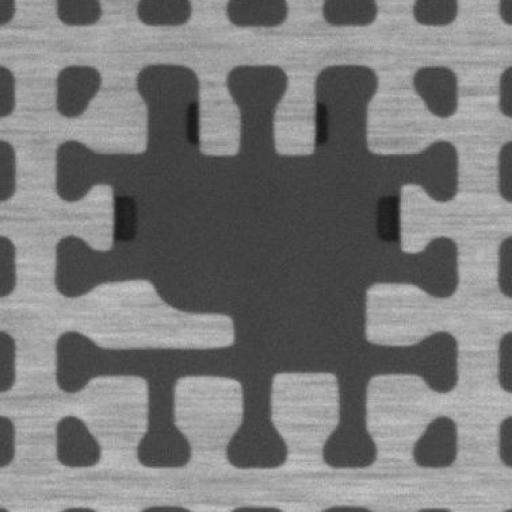NO_DIE: (54, 69, 457, 463)
